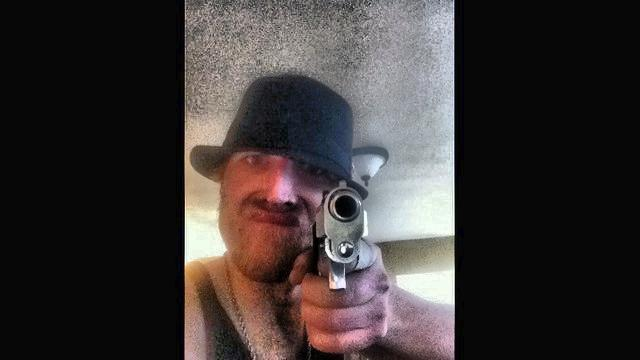pistol: (307, 178, 365, 294)
